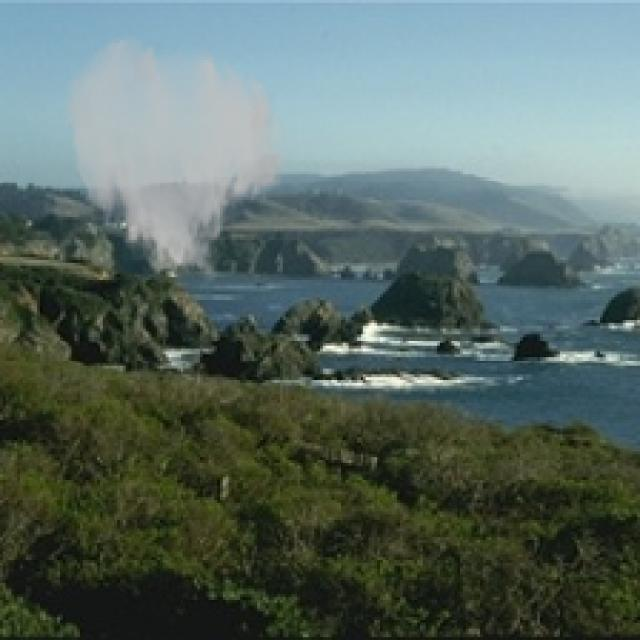Smoke: (62, 31, 288, 286)
